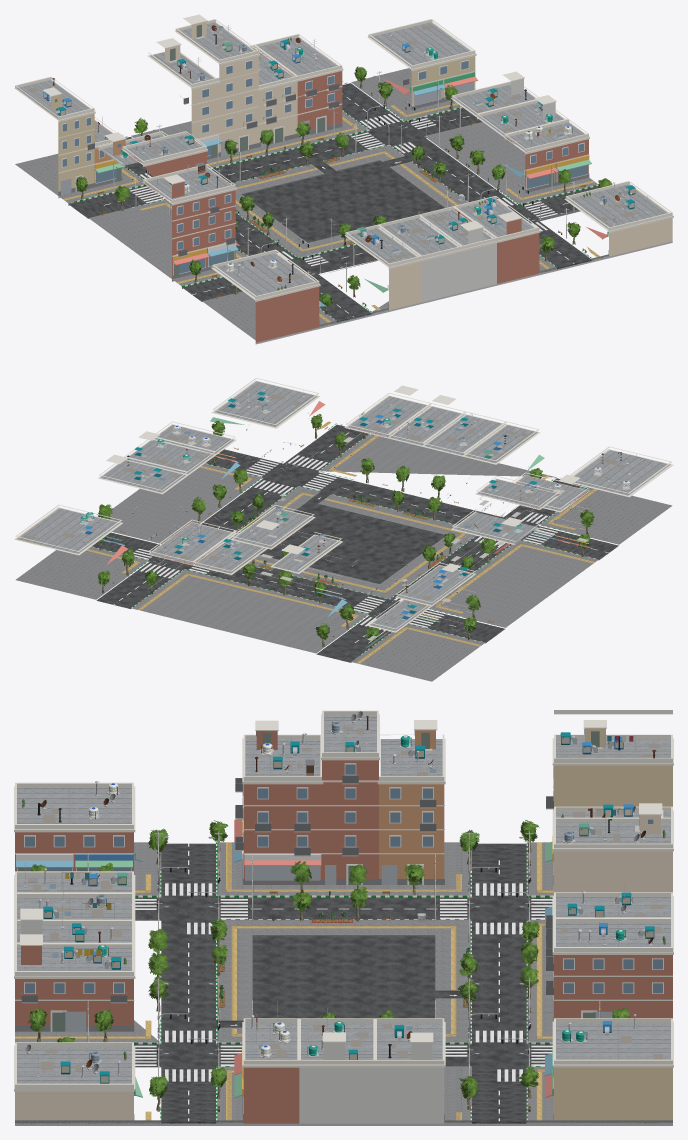
Rendered from city_chunks_2x2.glb.
3 views of the same model, one above another, from view 1: azimuth 30°, elevation 25°; view 2: azimuth 150°, elevation 25°; view 3: azimuth 270°, elevation 25° (orthographic). The views are drawn at different scales.
Visible parts, largest first — view 1: City_Chunk_SW, City_Chunk_NE, City_Chunk_NW, City_Chunk_SE; view 2: City_Chunk_NW, City_Chunk_NE, City_Chunk_SE, City_Chunk_SW; view 3: City_Chunk_NW, City_Chunk_NE, City_Chunk_SW, City_Chunk_SE.
Part boxes in pixels (x1,y1,x2,y2): City_Chunk_SW: (135, 140, 464, 344); City_Chunk_NE: (249, 19, 548, 202); City_Chunk_NW: (14, 14, 343, 252); City_Chunk_SE: (344, 95, 673, 293); City_Chunk_NW: (224, 480, 552, 681); City_Chunk_NE: (14, 437, 343, 630); City_Chunk_SE: (135, 378, 463, 543); City_Chunk_SW: (344, 411, 673, 593); City_Chunk_NW: (344, 710, 673, 982); City_Chunk_NE: (344, 884, 673, 1125); City_Chunk_SW: (14, 710, 343, 982); City_Chunk_SE: (14, 904, 343, 1125).
Bounding box in the file's own units: 72.37 × 19.03 × 72.24.
2 materials, 2 textured.
